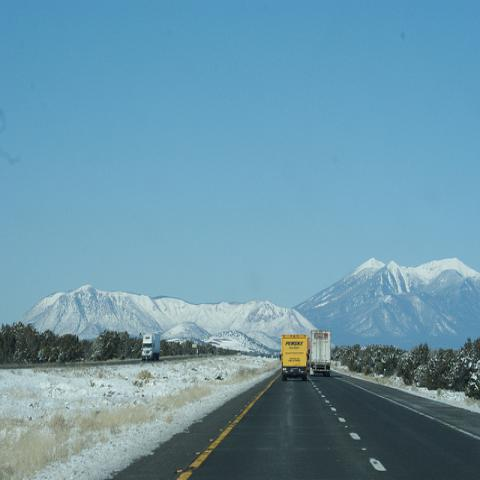truck: (280, 335, 308, 381), (310, 330, 332, 376), (141, 334, 161, 362)
